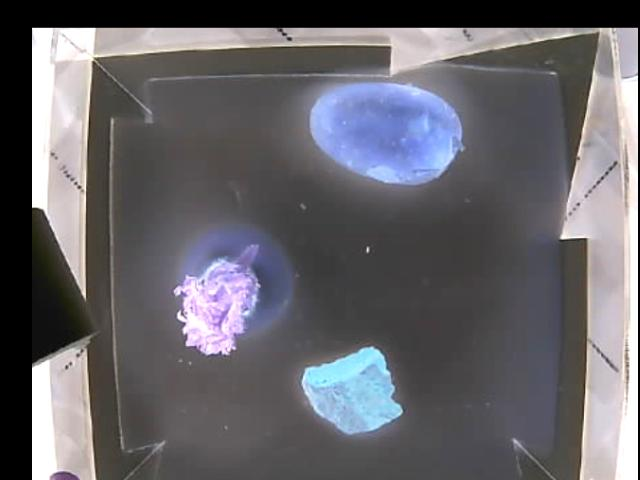Brisk: (300, 348, 406, 434)
Mooli: (178, 226, 294, 353)
Potato: (309, 80, 461, 184)
